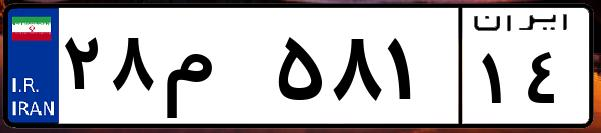1: (385, 28, 445, 110), (475, 38, 525, 113)
2: (57, 26, 110, 100)
4: (525, 38, 570, 115)
5: (270, 28, 330, 110)
8: (330, 28, 385, 110), (110, 28, 158, 98)
م: (158, 20, 270, 120)
